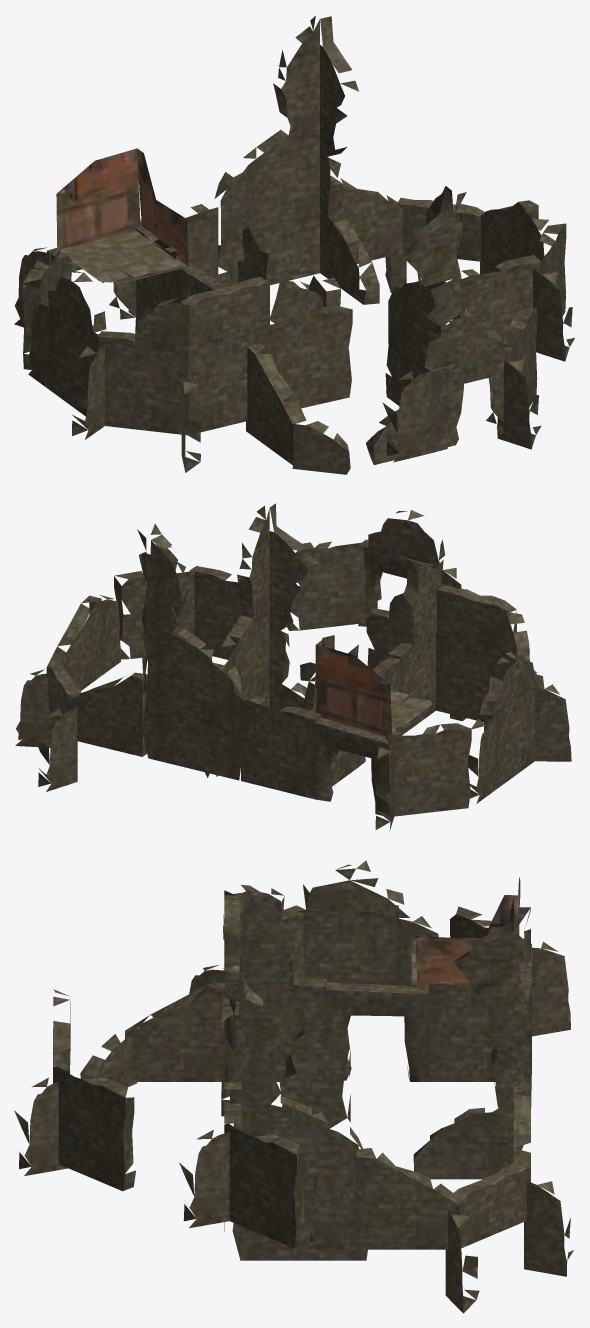
Rendered from jungle_ruins_d.glb.
The picture shows the model from 3 angles, top to bottom: view 1: azimuth 30°, elevation 25°; view 2: azimuth 150°, elevation 25°; view 3: azimuth 270°, elevation 25°; orthographic projection. The views are drawn at different scales.
Parts seen in each view (by area): view 1: jungle_ruins_d_HLOD; view 2: jungle_ruins_d_HLOD; view 3: jungle_ruins_d_HLOD.
Part boxes in pixels (x1,y1,x2,y2): jungle_ruins_d_HLOD: [14, 16, 574, 474]; jungle_ruins_d_HLOD: [15, 503, 571, 830]; jungle_ruins_d_HLOD: [14, 860, 573, 1313].
Size of the model in its own units: 19.72 by 11.64 by 16.49.
1 material, 1 textured.
